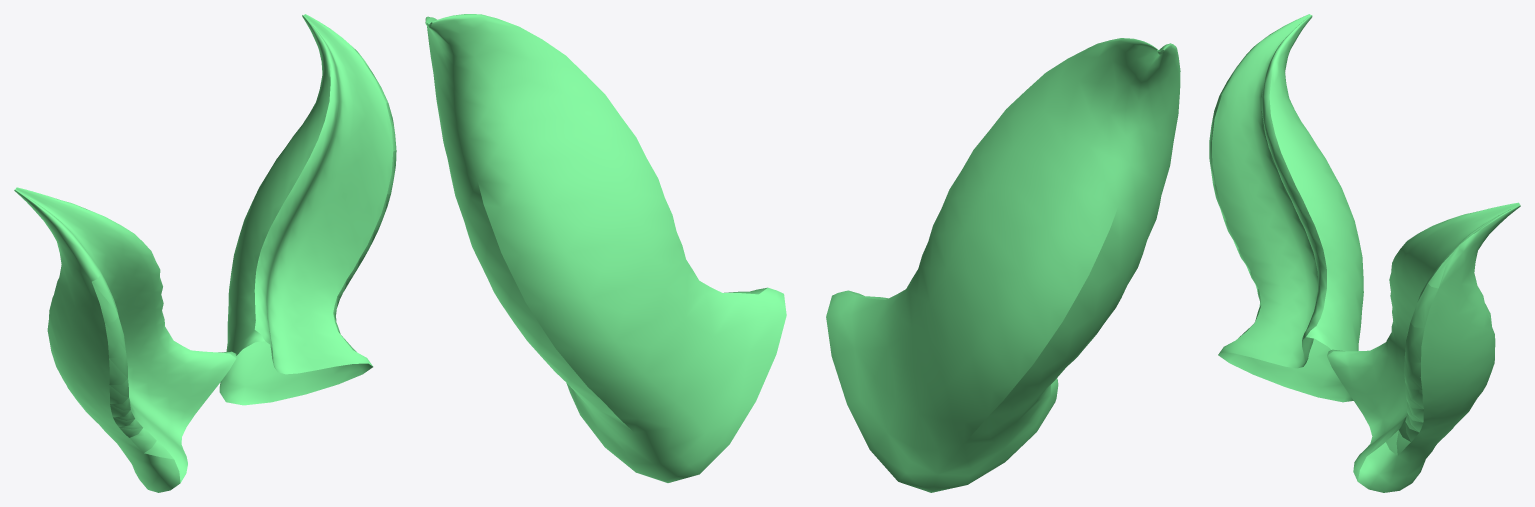
The picture shows the model from 3 angles, left to right: view 1: azimuth 30°, elevation 25°; view 2: azimuth 150°, elevation 25°; view 3: azimuth 270°, elevation 25°; orthographic projection. The views are drawn at different scales.
Visible parts, largest first — view 1: ears.001; view 2: ears.001; view 3: ears.001.
Part boxes in pixels (x1=…): ears.001: x1=14, y1=14, x2=396, y2=492; ears.001: x1=425, y1=14, x2=1180, y2=492; ears.001: x1=1209, y1=14, x2=1520, y2=492.
Bounding box in the file's own units: 96.97 × 60.82 × 69.26.
